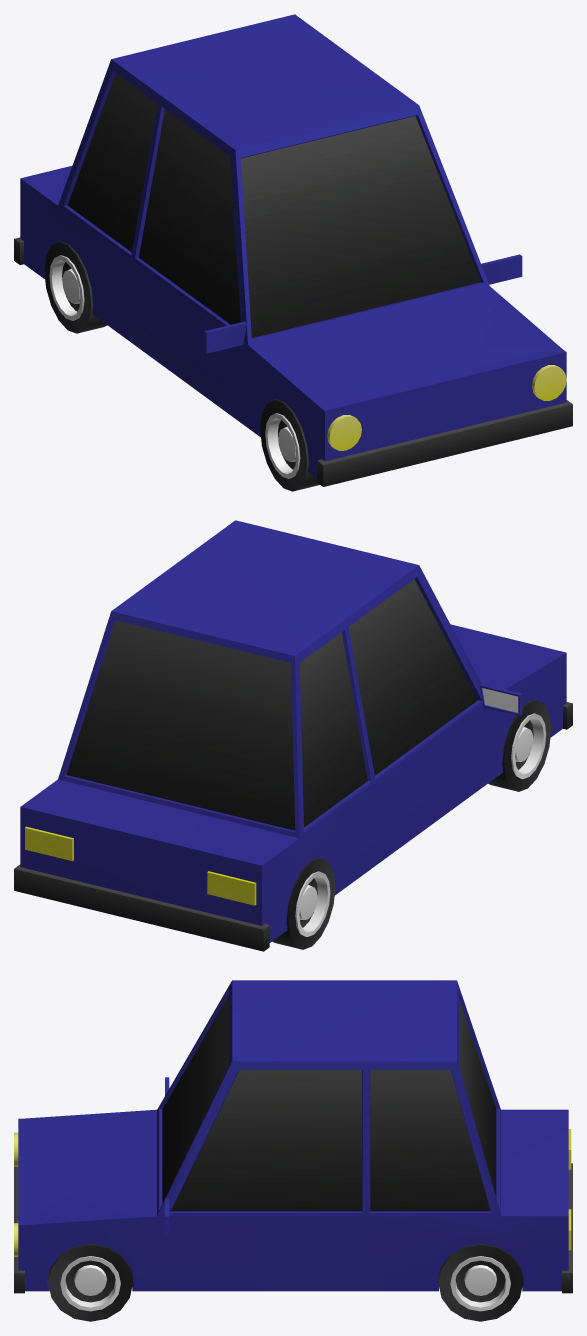
File: blueCar.fbx
3 renders of one model, top to bottom at view 1: azimuth 30°, elevation 25°; view 2: azimuth 150°, elevation 25°; view 3: azimuth 270°, elevation 25°, orthographic. The views are drawn at different scales.
Visible parts, largest first — view 1: carBody, tire3, tire2, carHeadlight, carHeadlight1, carMirror1, carMirror; view 2: carBody, tire3, tire2, carMirror1; view 3: carBody, tire, tire1.
Boxes of the visible parts, box(x1,y1,x2,y2) form: carBody: box(14, 14, 572, 486); tire3: box(44, 241, 107, 333); tire2: box(260, 399, 319, 491); carHeadlight: box(532, 365, 566, 400); carHeadlight1: box(327, 415, 361, 450); carMirror1: box(204, 321, 247, 353); carMirror: box(481, 254, 522, 284); carBody: box(14, 520, 572, 951); tire3: box(272, 857, 335, 949); tire2: box(488, 699, 551, 791); carMirror1: box(479, 684, 522, 715); carBody: box(14, 980, 572, 1293); tire: box(438, 1243, 522, 1321); tire1: box(48, 1243, 132, 1321).
Size of the model in its own units: 194 by 161 by 330.
1 material, 1 textured.
